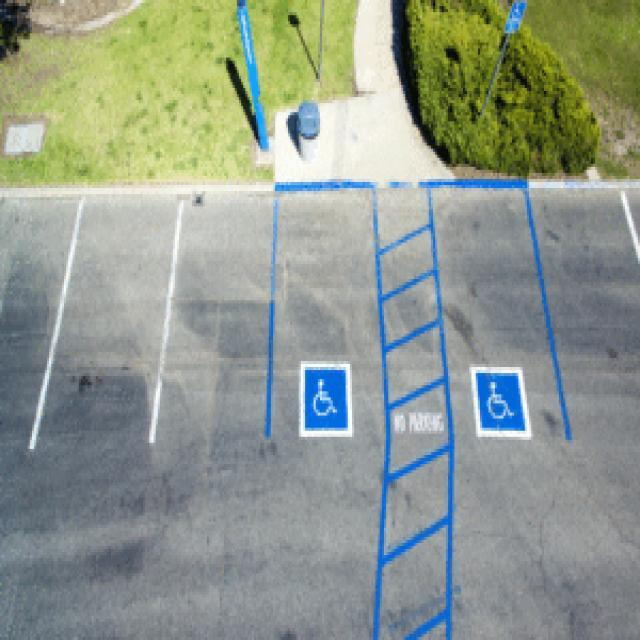symbol_of_access: (476, 369, 530, 436), (302, 364, 351, 434), (511, 0, 526, 18)
